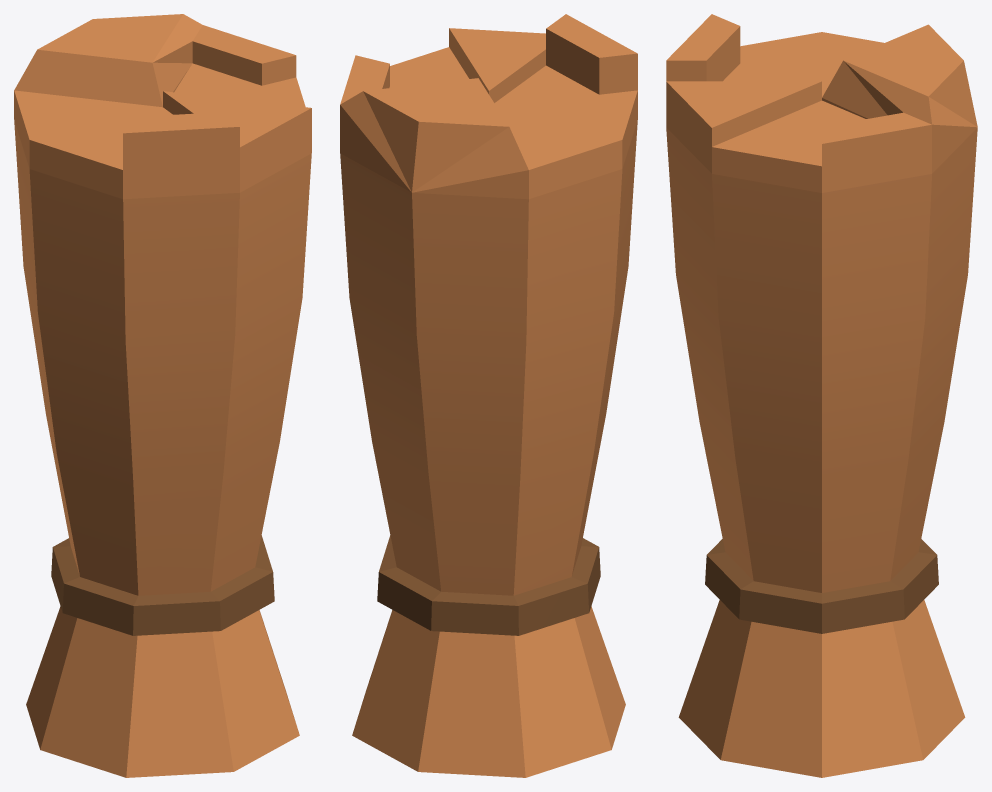
Rendered from Rice.fbx.
The picture shows the model from 3 angles, left to right: view 1: azimuth 30°, elevation 25°; view 2: azimuth 150°, elevation 25°; view 3: azimuth 270°, elevation 25°; orthographic projection.
Parts seen in each view (by area): view 1: ST_Rice; view 2: ST_Rice; view 3: ST_Rice.
Boxes of the visible parts, x1,y1,x2,y2 form: ST_Rice: (14, 14, 311, 777); ST_Rice: (340, 14, 637, 777); ST_Rice: (666, 14, 977, 777).
Bounding box in the file's own units: 47.85 × 111 × 47.85.
